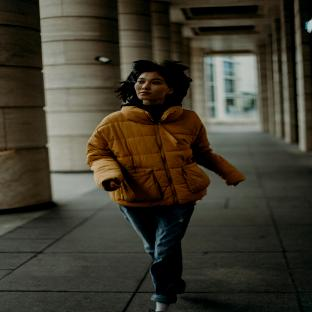Human: (86, 60, 245, 312)
